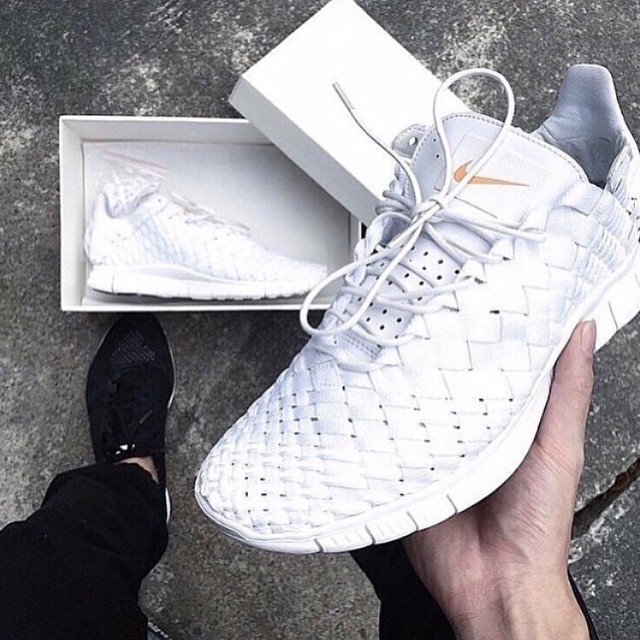sneaker: (77, 296, 185, 549)
